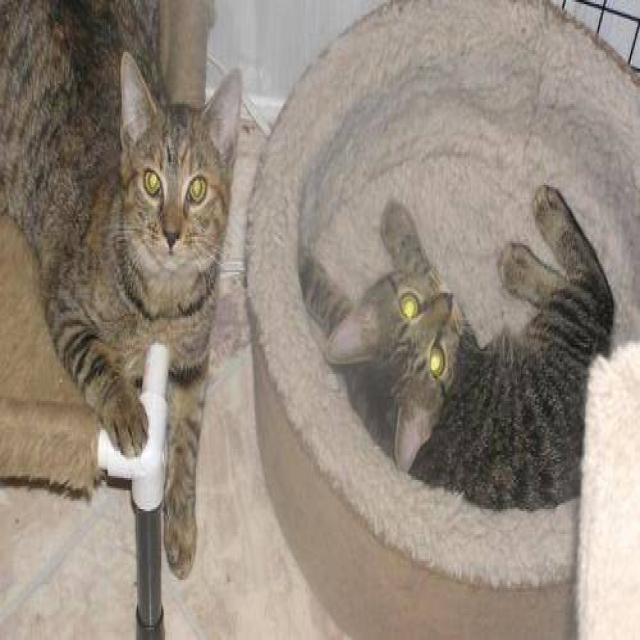cat: (0, 0, 242, 580), (319, 181, 614, 511)
